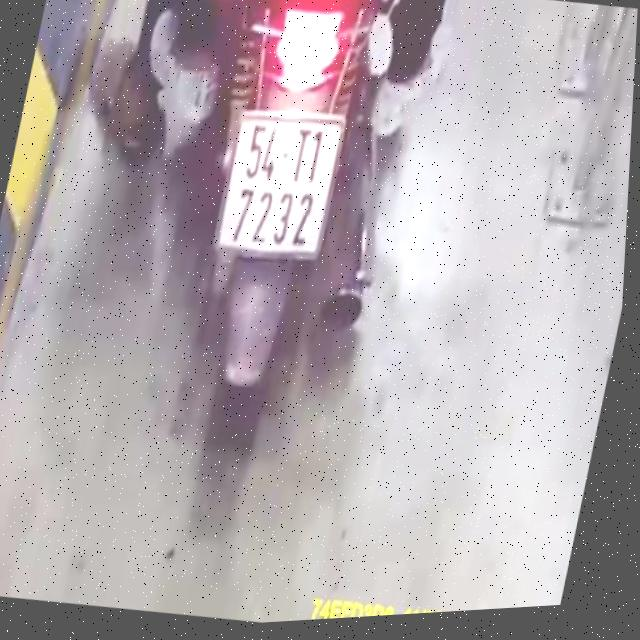motorcycle: (123, 0, 441, 496)
plate: (205, 98, 352, 268)
